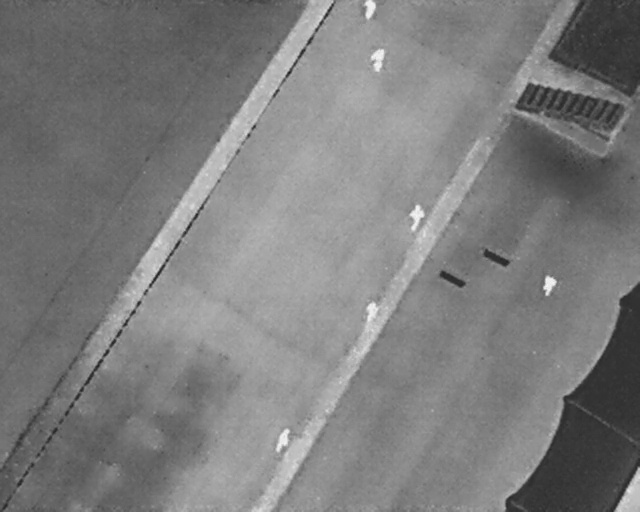Person: (270, 424, 295, 457), (406, 201, 425, 234), (538, 271, 560, 299), (363, 298, 380, 325), (370, 46, 386, 73), (363, 0, 378, 20)
